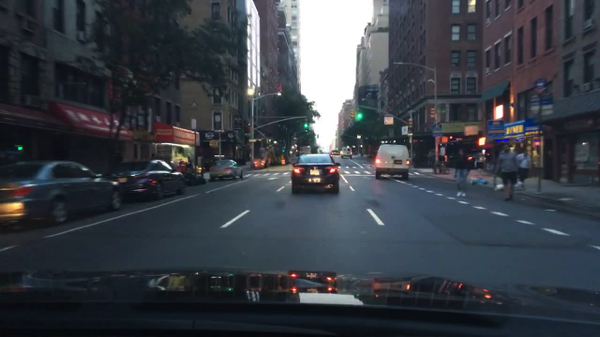car: (0, 159, 122, 229), (106, 159, 186, 201), (289, 152, 342, 195), (374, 143, 411, 180), (445, 139, 486, 169), (208, 159, 244, 182), (174, 169, 208, 185), (250, 155, 267, 169), (340, 145, 353, 158), (299, 145, 312, 155), (330, 149, 340, 157)
person: (492, 143, 520, 203), (452, 149, 472, 199), (515, 147, 531, 189)
traffic light: (493, 103, 504, 122), (477, 136, 487, 147), (350, 108, 356, 119), (439, 137, 448, 144), (408, 118, 414, 128), (430, 108, 435, 119), (356, 112, 362, 121), (303, 121, 308, 131)
traffic sign: (529, 93, 552, 111), (532, 76, 547, 93), (382, 115, 395, 125), (400, 125, 408, 136), (214, 127, 225, 134), (248, 139, 257, 143), (244, 132, 251, 137)
truck: (265, 143, 285, 166)
